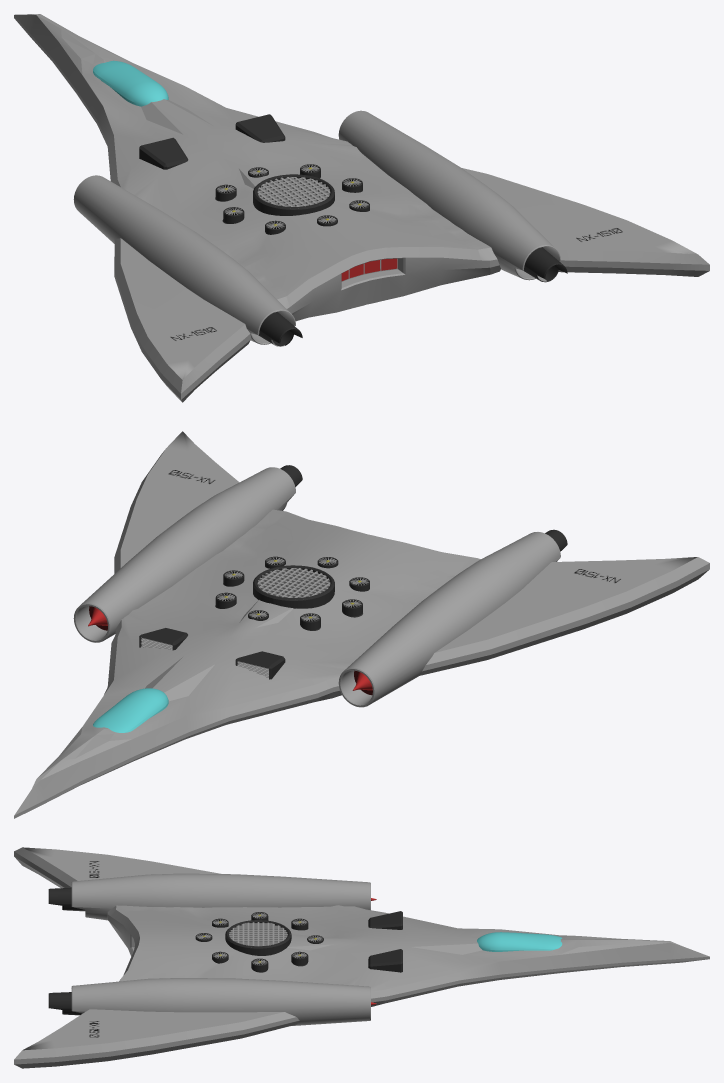
Rendered from ship1c.obj.
3 views of the same model, one above another, from view 1: azimuth 30°, elevation 25°; view 2: azimuth 150°, elevation 25°; view 3: azimuth 270°, elevation 25° (orthographic). The views are drawn at different scales.
Visible parts, largest first — view 1: Plane; view 2: Plane; view 3: Plane.
Part boxes in pixels (box(x1,y1,x2,y2)): Plane: box(14, 14, 709, 402); Plane: box(14, 431, 709, 818); Plane: box(14, 847, 709, 1068).
Size of the model in its own units: 0.354 by 0.0454 by 0.5002.
Materials: 2 (2 with a texture image).
